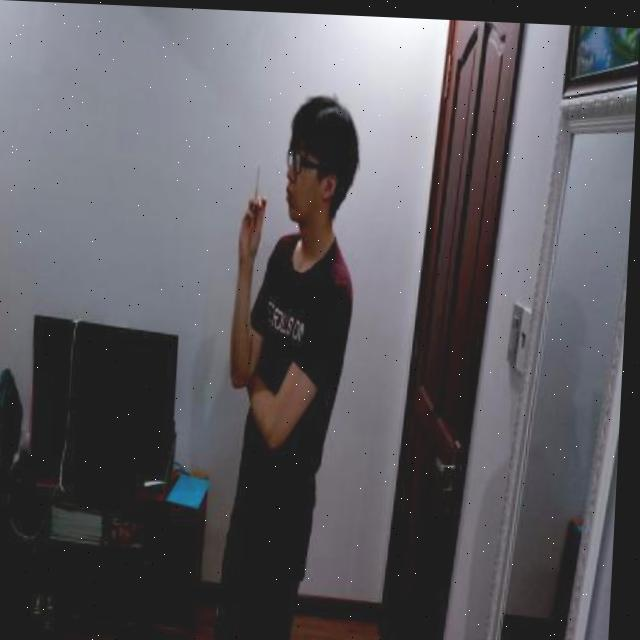cigarette: (255, 163, 263, 197)
